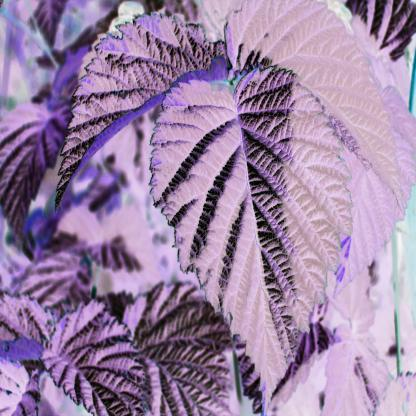raspberry leaf: (137, 61, 354, 414), (50, 9, 218, 215)
